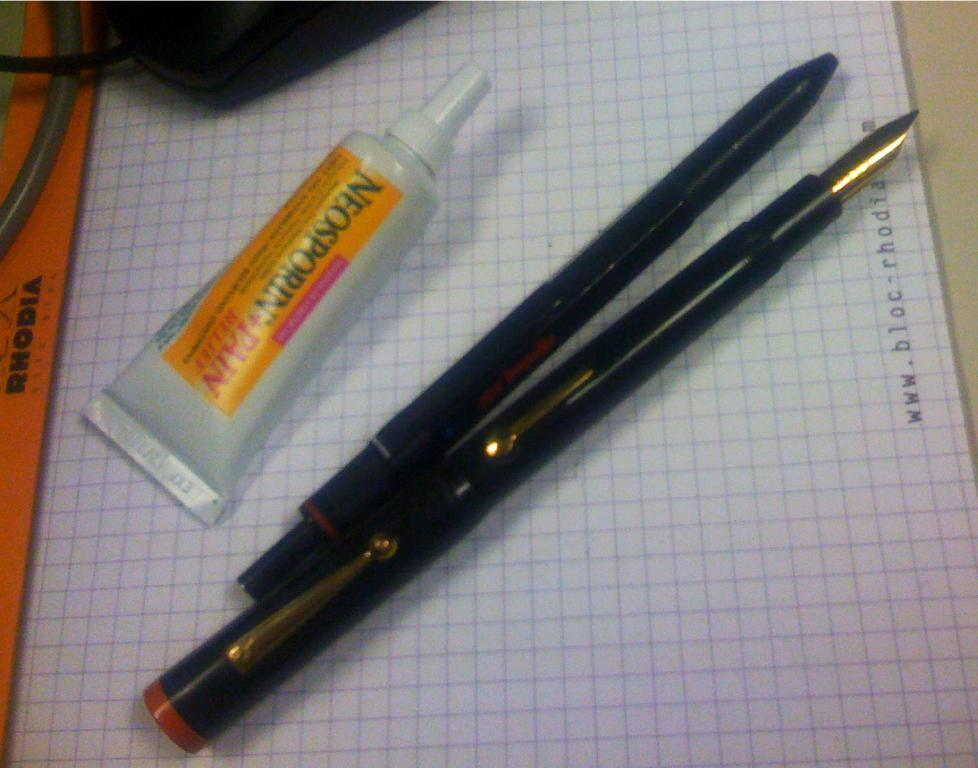pen: (227, 48, 847, 605)
